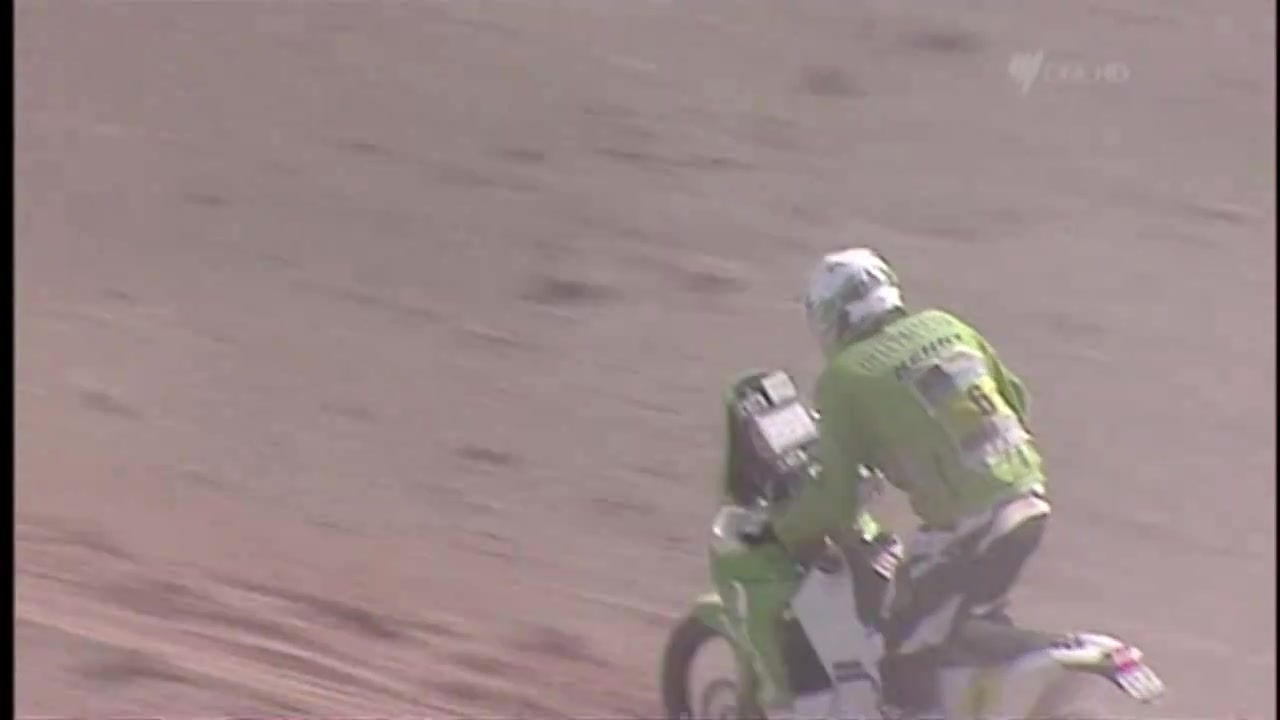motorbike: (660, 371, 1218, 720)
